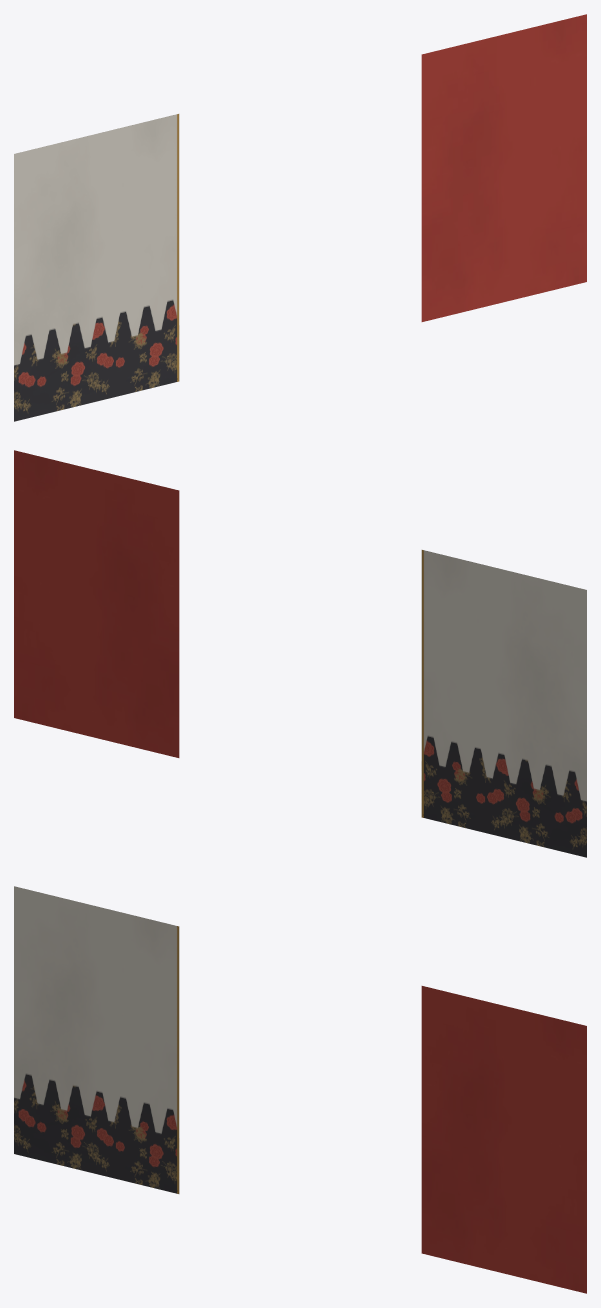
File: paper_tent_curtain.glb
3 views of the same model, one above another, from view 1: azimuth 30°, elevation 25°; view 2: azimuth 150°, elevation 25°; view 3: azimuth 330°, elevation 25° (orthographic).
Visible parts, largest first — view 1: curtain_lining, curtain_outer; view 2: curtain_lining, curtain_outer; view 3: curtain_lining, curtain_outer.
Boxes of the visible parts, x1,y1,x2,y2 form: curtain_lining: (421,14,586,321); curtain_outer: (14,114,179,421); curtain_lining: (14,450,179,757); curtain_outer: (421,550,586,857); curtain_lining: (421,986,586,1293); curtain_outer: (14,886,179,1193).
Bounding box in the file's own units: 5.62 × 2.51 × 0.
Materials: 2 (2 with a texture image).
